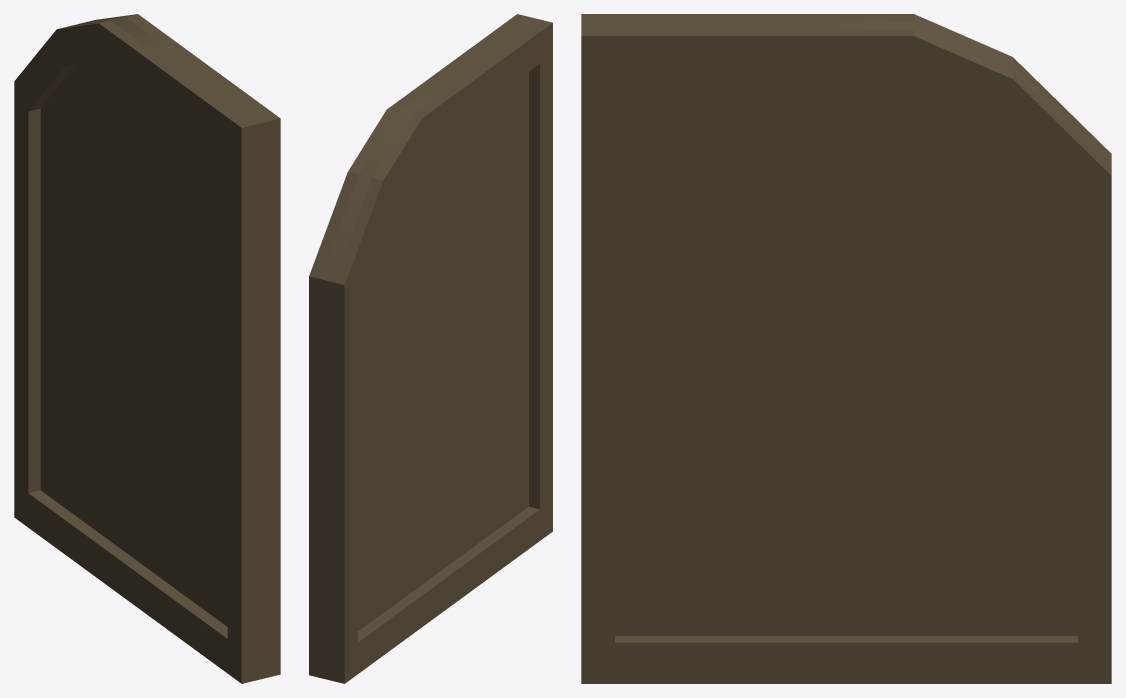
The model's file is Gate_Door_2.fbx.
3 renders of one model, left to right at view 1: azimuth 30°, elevation 25°; view 2: azimuth 150°, elevation 25°; view 3: azimuth 270°, elevation 25°, orthographic. The views are drawn at different scales.
Visible parts, largest first — view 1: pasted__pasted__pCube5; view 2: pasted__pasted__pCube5; view 3: pasted__pasted__pCube5.
Part boxes in pixels (box(x1,y1,x2,y2)): pasted__pasted__pCube5: box(14, 14, 280, 683); pasted__pasted__pCube5: box(309, 14, 552, 683); pasted__pasted__pCube5: box(581, 14, 1111, 683).
Bounding box in the file's own units: 0.454 × 6.2 × 4.6.
